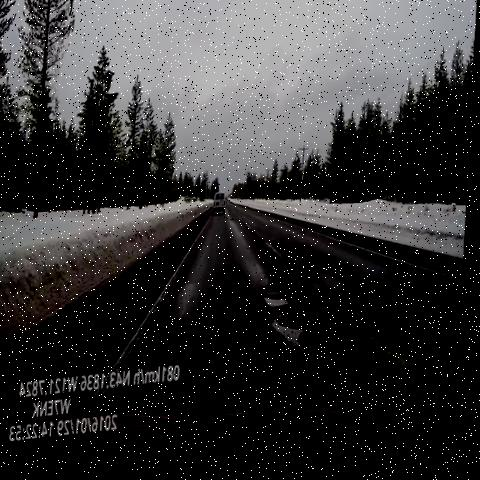pothole: (264, 309, 320, 372), (260, 290, 296, 322), (229, 215, 240, 231)
